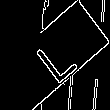L_NW: (29, 26, 81, 84)
